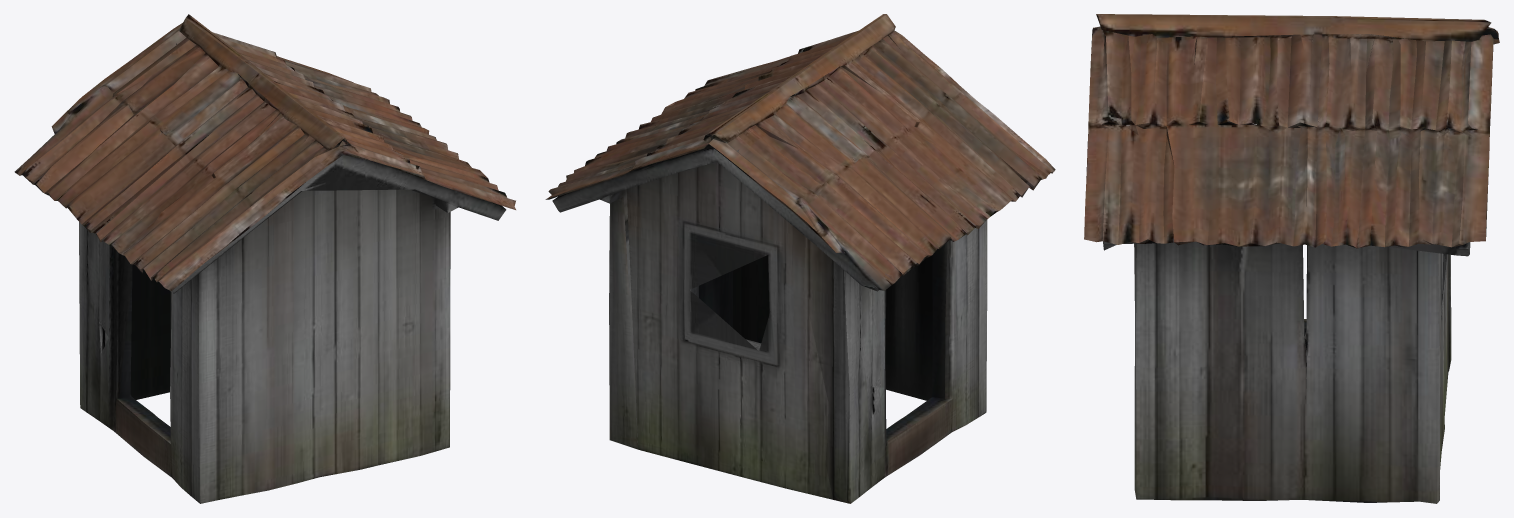
File: shed.glb
The picture shows the model from 3 angles, left to right: view 1: azimuth 30°, elevation 25°; view 2: azimuth 150°, elevation 25°; view 3: azimuth 270°, elevation 25°; orthographic projection. The views are drawn at different scales.
Parts seen in each view (by area): view 1: shed; view 2: shed; view 3: shed.
Part boxes in pixels (x1,y1,x2,y2): shed: (14, 14, 515, 503); shed: (545, 14, 1055, 503); shed: (1084, 14, 1499, 503).
Bounding box in the file's own units: 3.59 × 3.4 × 3.06.
1 material, 1 textured.
